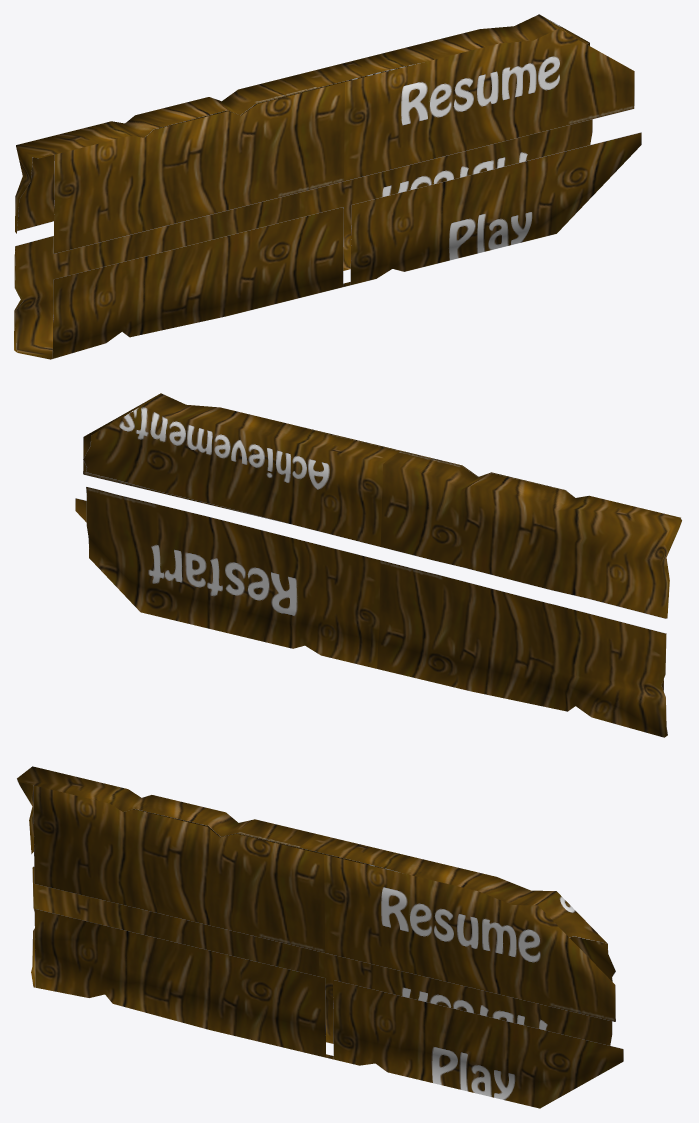
The model's file is placa.fbx.
3 views of the same model, one above another, from view 1: azimuth 30°, elevation 25°; view 2: azimuth 150°, elevation 25°; view 3: azimuth 330°, elevation 25° (orthographic).
Parts seen in each view (by area): view 1: Achievement01; view 2: Achievement01; view 3: Achievement01.
Boxes of the visible parts, x1,y1,x2,y2 form: Achievement01: (14, 14, 641, 359); Achievement01: (75, 393, 682, 737); Achievement01: (17, 766, 623, 1108).
Bounding box in the file's own units: 39.18 × 11.86 × 2.46.
